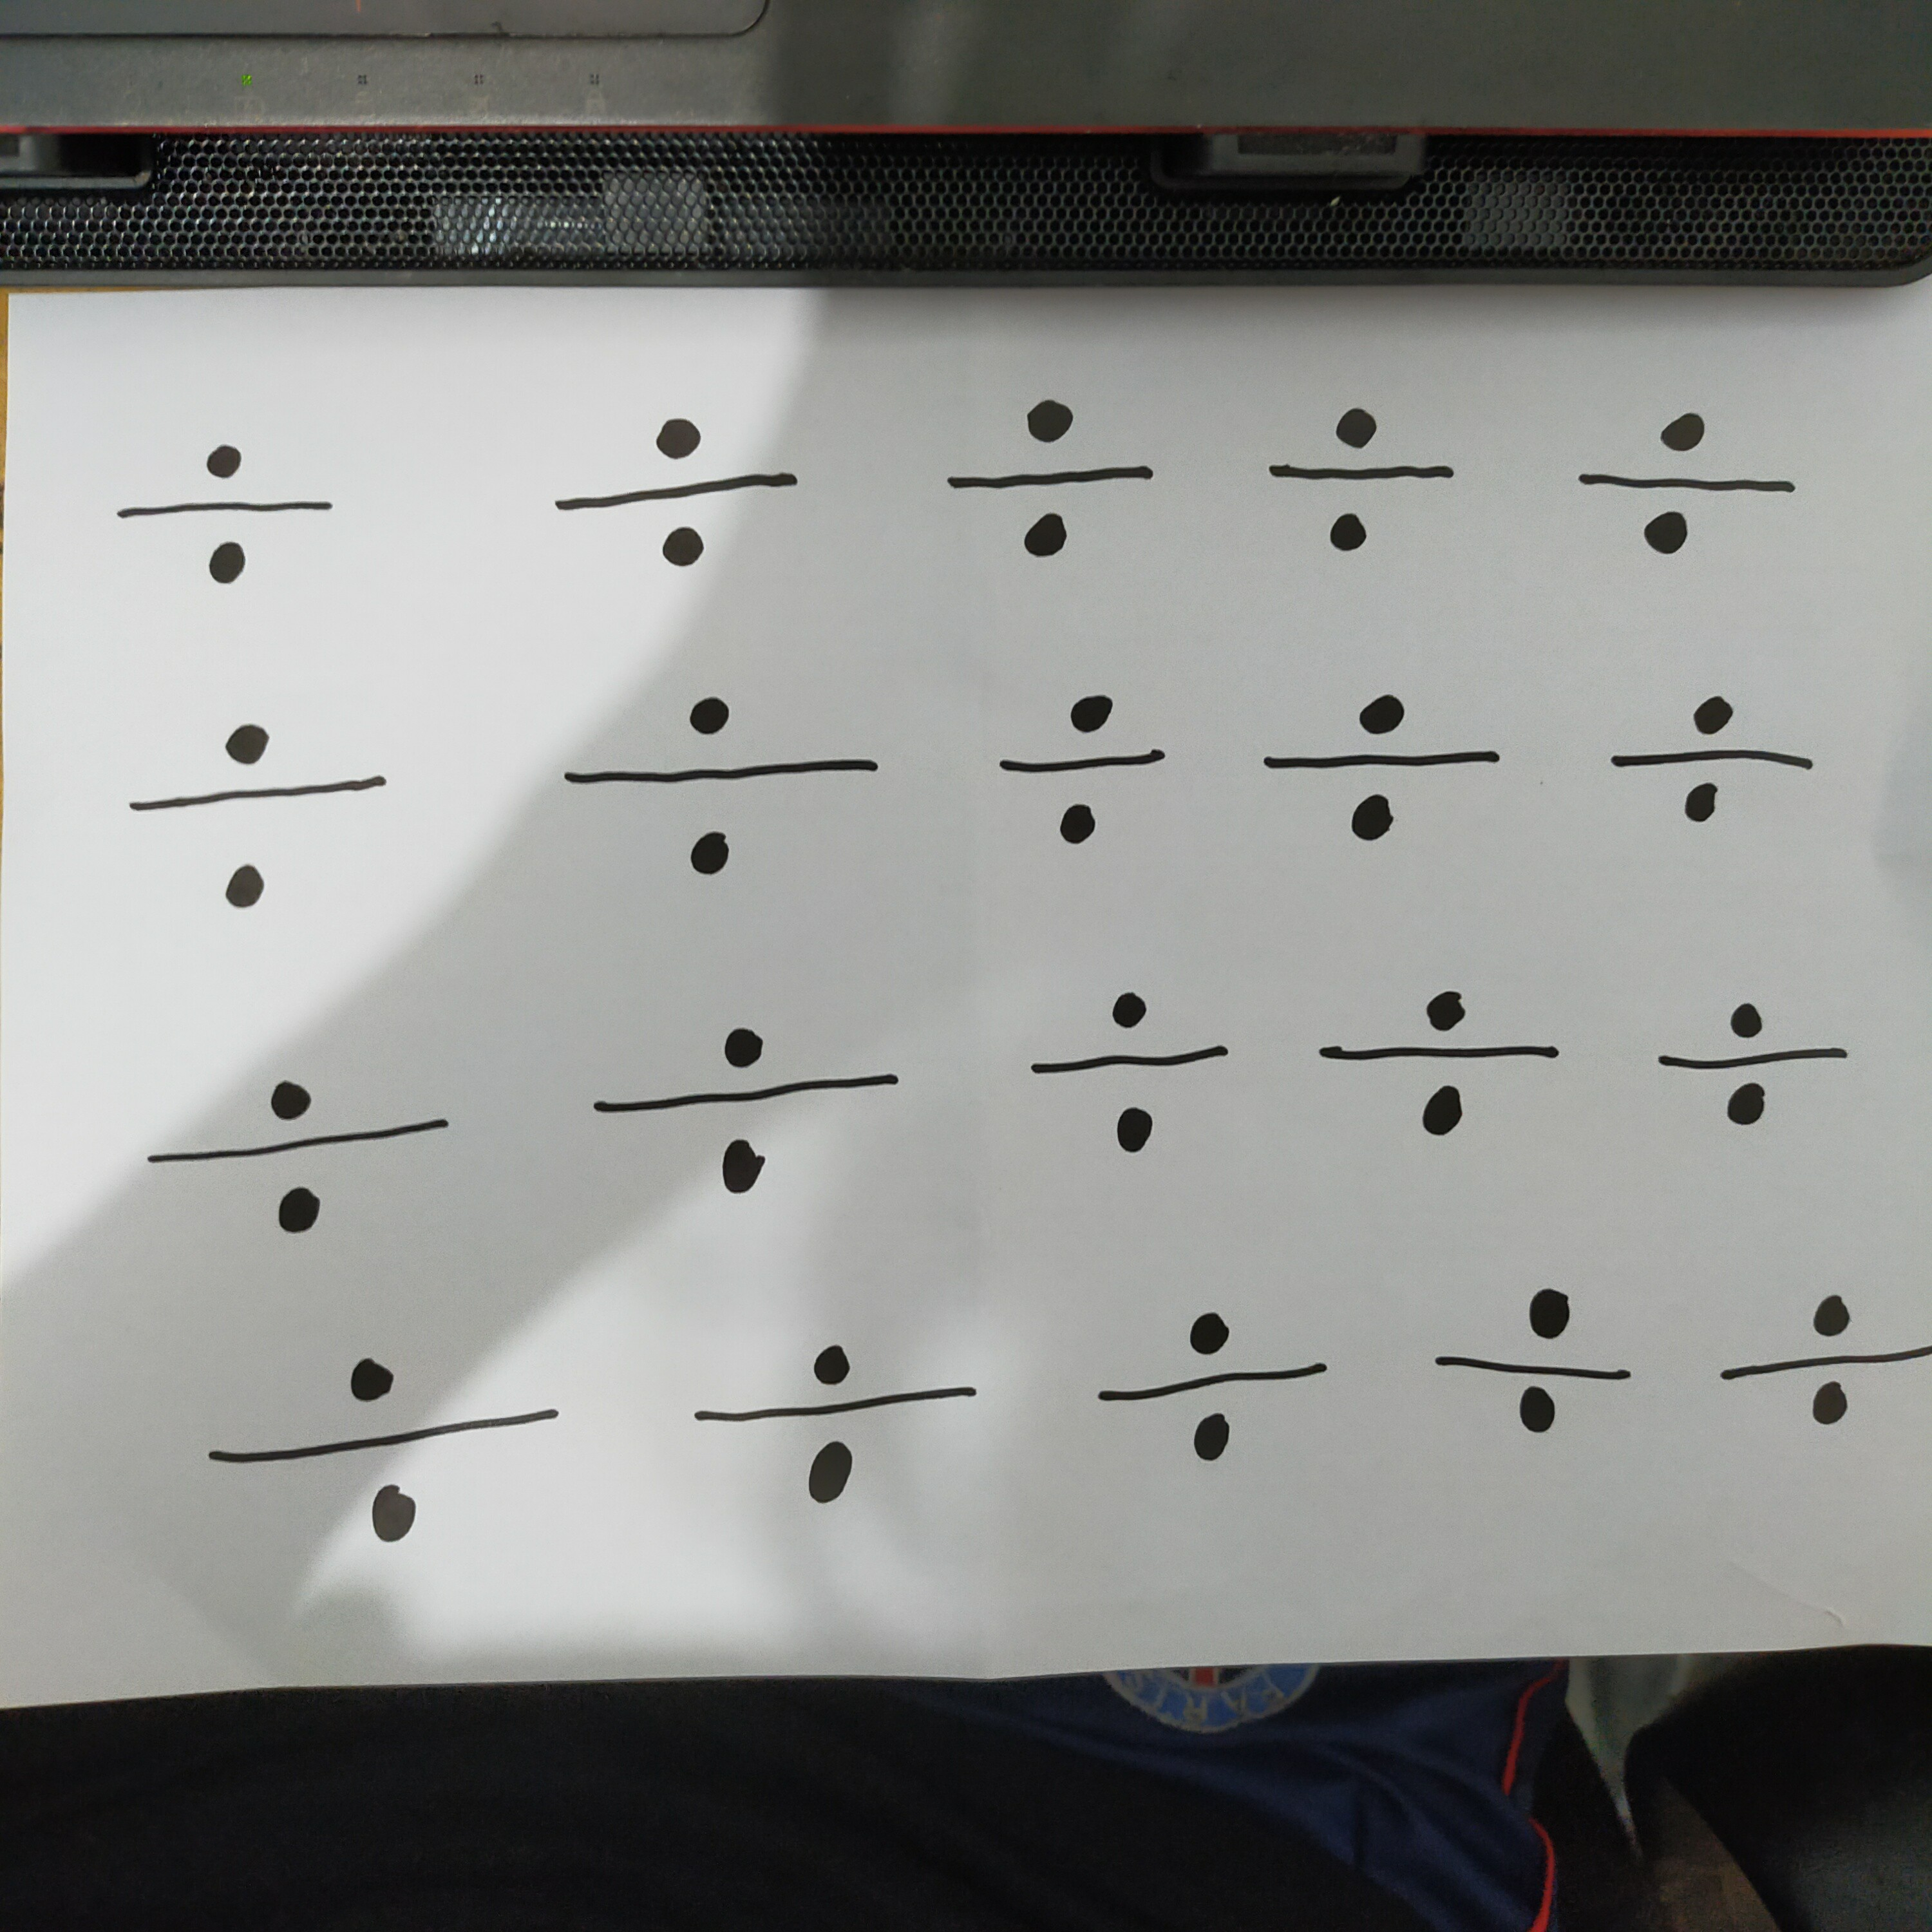div: (196, 1344, 609, 1549), (560, 679, 907, 891), (124, 1069, 482, 1249), (113, 712, 412, 918), (677, 1332, 1010, 1516), (593, 1016, 919, 1204), (536, 399, 840, 581), (1305, 973, 1584, 1168), (1086, 1301, 1362, 1481), (1243, 690, 1522, 852), (934, 390, 1182, 567), (1567, 397, 1819, 571), (1016, 985, 1253, 1160), (1426, 1276, 1658, 1454), (1643, 985, 1871, 1157), (1701, 1282, 1932, 1447), (111, 429, 349, 587), (987, 681, 1194, 862), (1602, 687, 1828, 850), (1262, 390, 1465, 567)
